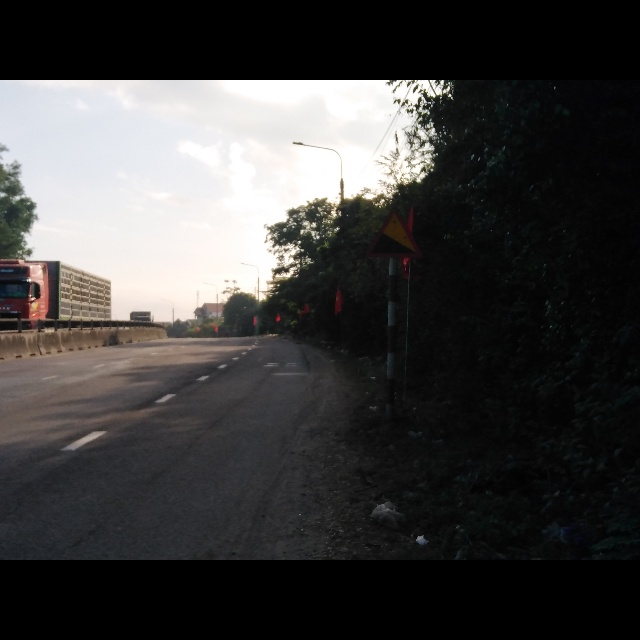Dốc lên nguy hiểm: (367, 204, 425, 260)
